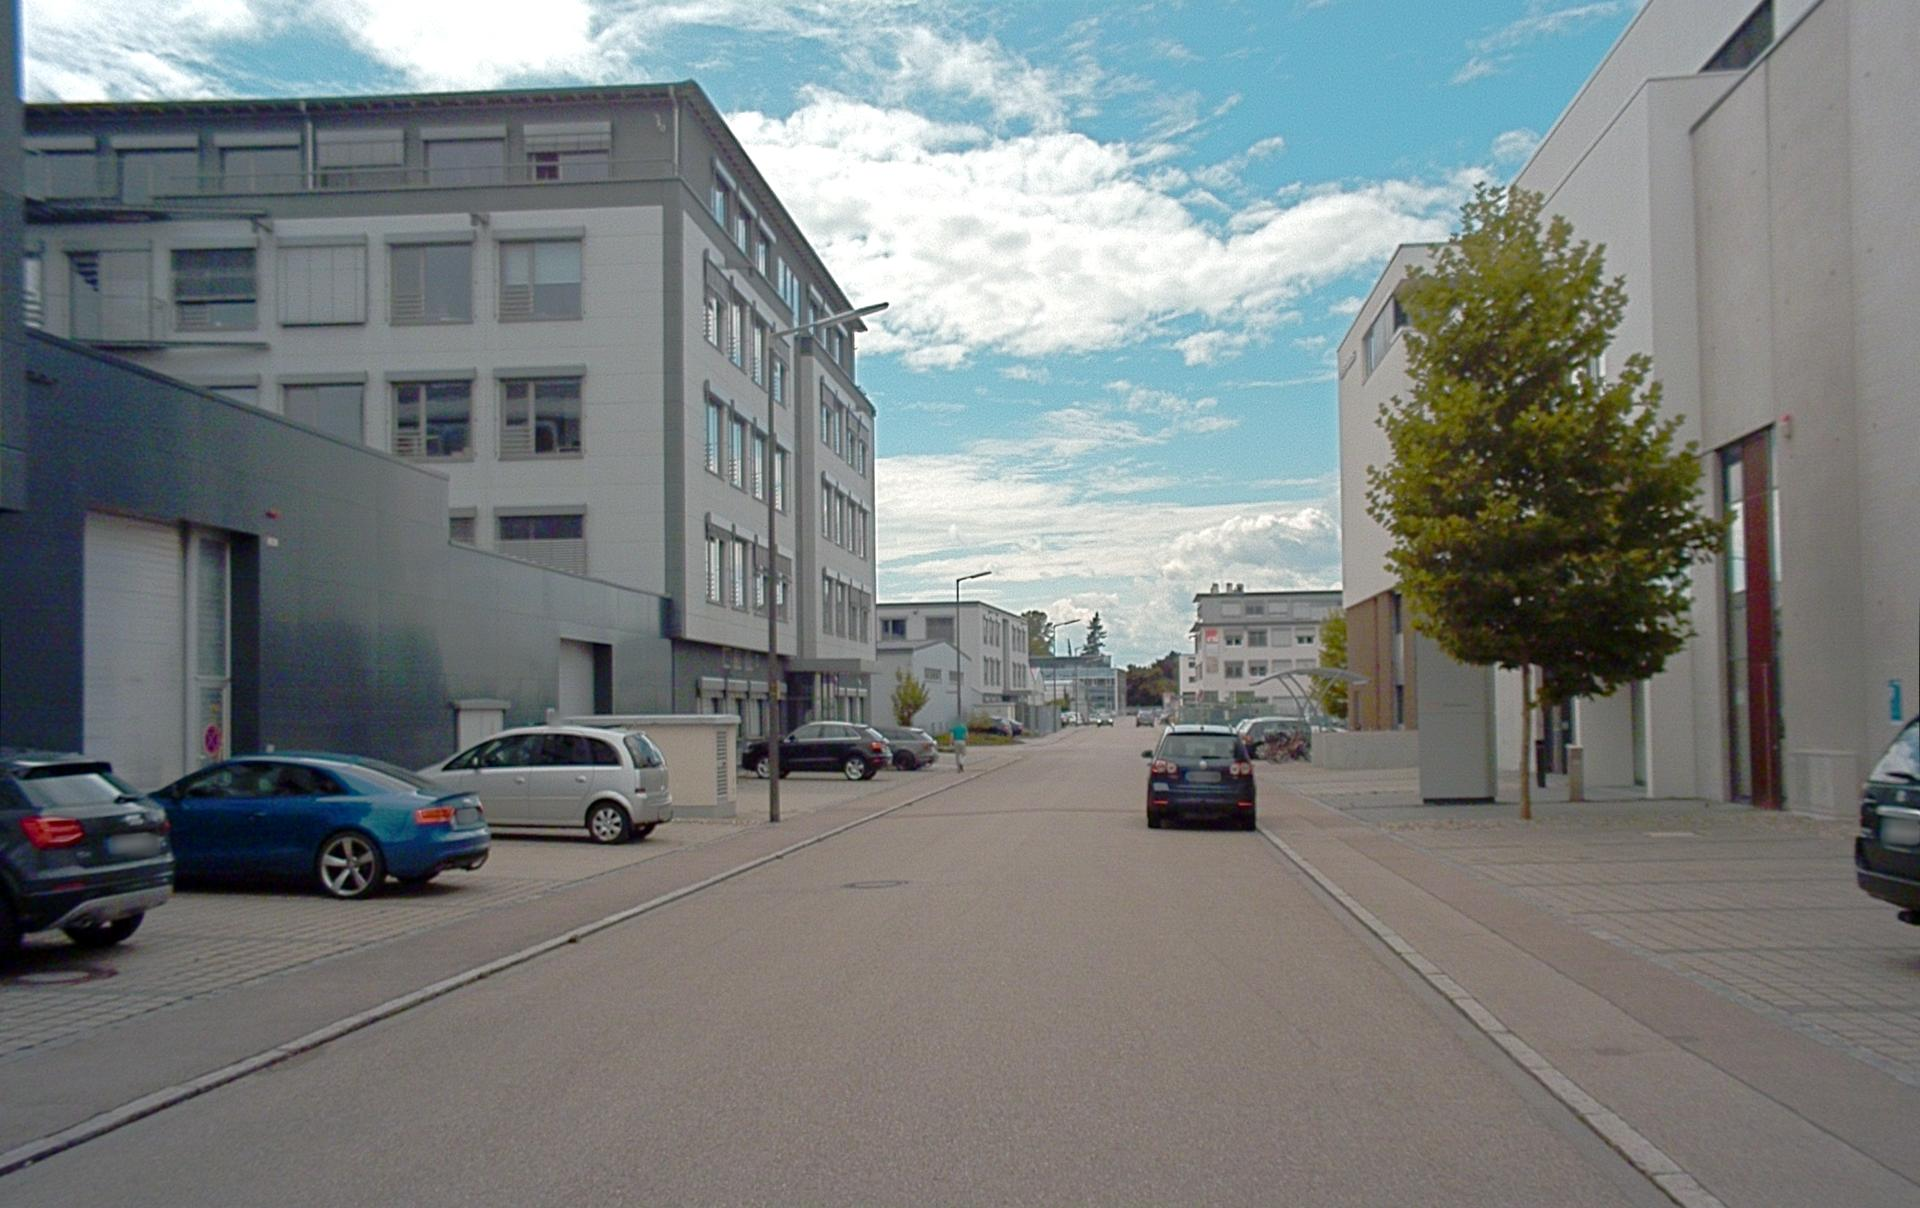car: (156, 752, 488, 898), (420, 725, 673, 843), (1855, 715, 1919, 924), (1146, 725, 1255, 829), (1235, 715, 1309, 761), (878, 726, 938, 770), (989, 715, 1024, 735), (1060, 713, 1082, 726), (1137, 710, 1155, 726), (1094, 715, 1114, 725)
